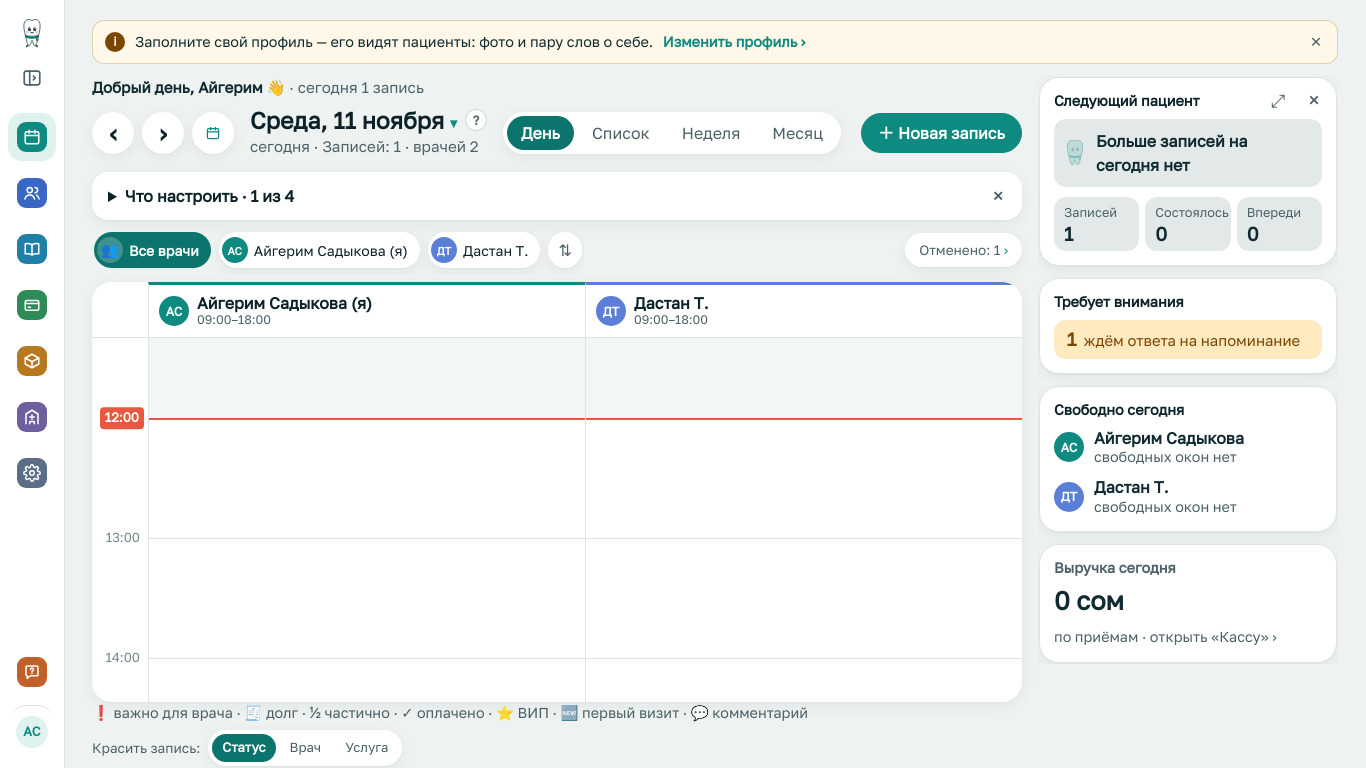
Test: компьютер: под сеткой дня «Отменено: 1 ›», раскрыть — кто отменил
(page scrolled)
Expected: the button "Нурлан К." is not shown
Click the button "Отменено: 1 ›".
click(964, 250)  # box [905,233,1022,267]
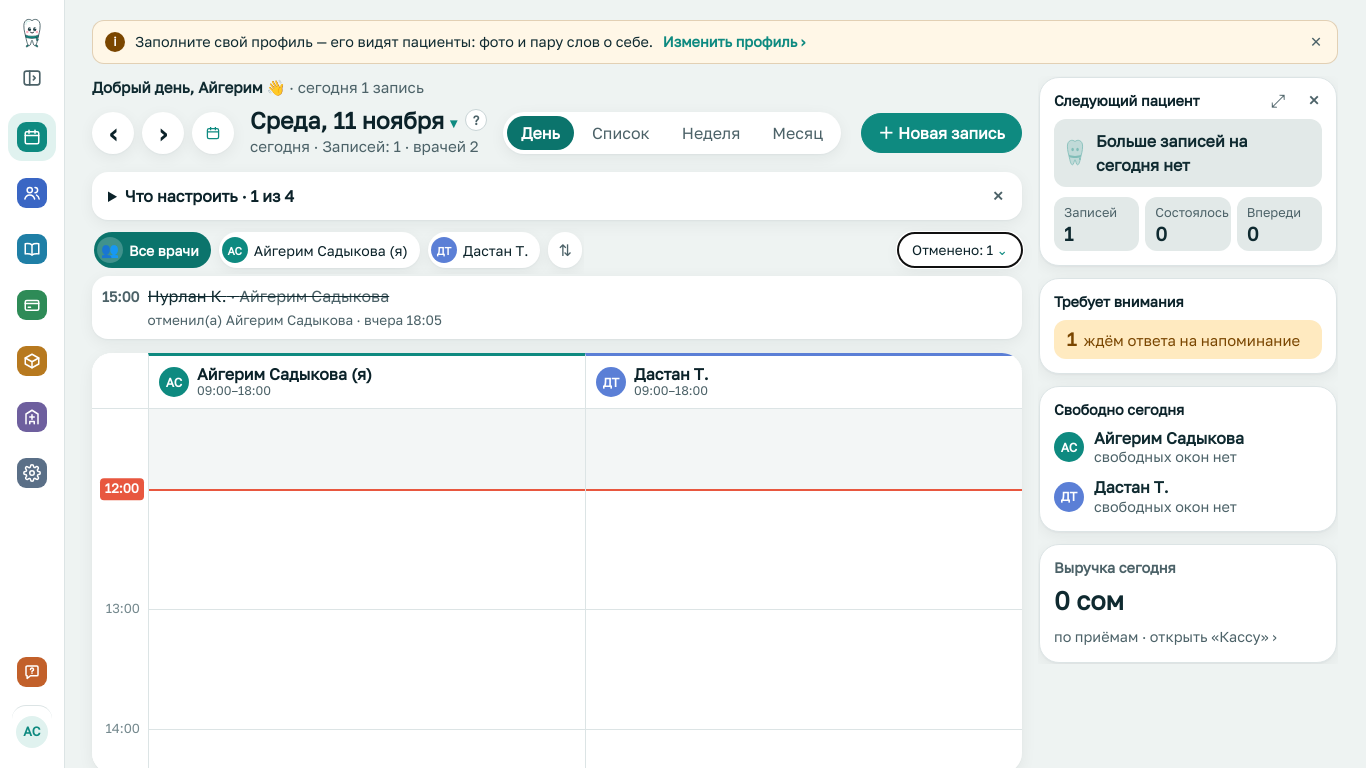
Now the button that starts with "Нурлан К." reads "15:00 Нурлан К. · Айгерим Садыкова отменил(а) Айгерим Садыкова · вчера 18:05", box [92,276,1022,339]
